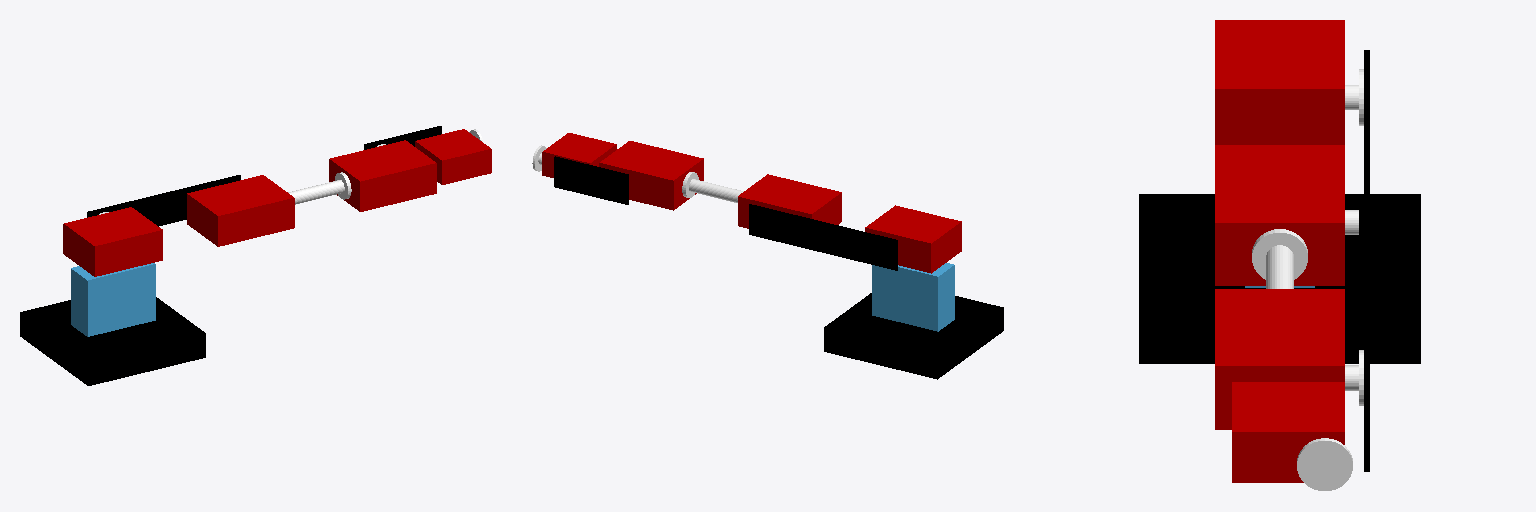
The robot description file, URDF, robot "robot":
<?xml version="1.0"?>
<robot name="robot">

	<material name="red">
		<color rgba="0.8 0 0 1"/>
	</material>

	<material name="blue">
		<color rgba="0 0 0.8 1"/>
	</material>
	
	<material name="white">
		<color rgba="1 1 1 1"/>
	</material>

	<material name="black">
		<color rgba="0 0 0 1"/>
	</material>


	<link name="base">
		<visual>
			<geometry>
				<box size="1 1 0.2"/>
			</geometry>
			<material name="black"/>
		</visual>
	</link>	

	<link name="base_link">
		<visual>
			<geometry>
				<box size="0.58 0.25 0.46"/>
			</geometry>
		</visual>
	</link>

	<joint name="base_base" type="fixed">
		<parent link="base"/>
		<child link="base_link"/>
		<origin rpy="0 0 0" xyz="0 0 0.33"/>
	</joint>

	<link name="base_link_rot1">
		<visual>
			<geometry>
				<cylinder radius="0.045" length="0.05"/>
			</geometry>
			<material name="white"/>
			<origin rpy="0 0 0" xyz="0 0 0.025"/>
		</visual>
	</link>
		
	<joint name="joint0" type="revolute">
		<parent link="base_link"/>
		<child link="base_link_rot1"/>
		<limit effort="1000.0" lower="-1.5707" upper="1.5707" velocity="0.5"/>
		<origin rpy="0 0 0" xyz="-0.12 0 0.23"/>
		<axis xyz="0 0 1"/>
	</joint>

	<link name="base_link_rot2">
		<visual>
			<geometry>
				<cylinder radius="0.1" length="0.02"/>
			</geometry>
			<material name="white"/>
			<origin rpy="0 0 0" xyz="0 0 0.01"/>
		</visual>
	</link>
		
	<joint name="base_link_rot2_rot1" type="fixed">
		<parent link="base_link_rot1"/>
		<child link="base_link_rot2"/>
		<origin rpy="0 0 0" xyz="0 0 0.05"/>
	</joint>



	<link name="link1">
		<visual>
			<geometry>
				<box size="0.58 0.46 0.25"/>
			</geometry>
			<origin rpy="0 0 0" xyz="0 0 0"/>
			<material name="red"/>
		</visual>
	</link>

	<joint name="base_link1" type="fixed">
		<parent link="base_link_rot2"/>
		<child link="link1"/>
		<origin rpy="0 0 0" xyz="0.12 0 0.145"/>
		<axis xyz="0 0 1"/>
	</joint>

	<link name="link1_rot1">
		<visual>
			<geometry>
				<cylinder radius="0.045" length="0.05"/>
			</geometry>
			<material name="white"/>
			<origin rpy="0 0 0" xyz="0 0 -0.025"/>
		</visual>
	</link>
		
	<joint name="joint1" type="revolute">
		<parent link="link1"/>
		<child link="link1_rot1"/>
		<limit effort="1000.0" lower="0" upper="3.1415" velocity="0.5"/>
		<origin rpy="1.5707 0 0" xyz="0.09 0.23 0"/>
		<axis xyz="0 0 1"/>
	</joint>

	<link name="link1_rot2">
		<visual>
			<geometry>
				<cylinder radius="0.1" length="0.02"/>
			</geometry>
			<material name="white"/>
			<origin rpy="0 0 0" xyz="0 0 -0.01"/>
		</visual>
	</link>
		
	<joint name="link1_rot2_rot1" type="fixed">
		<parent link="link1_rot1"/>
		<child link="link1_rot2"/>
		<origin rpy="0 0 0" xyz="0 0 -0.05"/>
	</joint>

	<link name="link1_frame1">
		<visual>
			<geometry>
				<box size="0.65 0.25 0.02"/>
			</geometry>
			<material name="black"/>
			<origin rpy="0 0 0" xyz="-0.325 0 0"/>
		</visual>
	</link>

	<joint name="link1_rot2_frame1" type="fixed">
		<parent link="link1_rot2"/>
		<child link="link1_frame1"/>
		<origin rpy="0 0 0" xyz="0.52 0 -0.03"/>
	</joint>
	
<!--
	<link name="link1_frame2">
		<visual>
			<geometry>
				<box size="0.04 0.25 0.56"/>
			</geometry>
			<material name="black"/>
			<origin rpy="0 0 0" xyz="0 0 -0.28"/>
		</visual>
	</link>

	<joint name="link1_frame1_frame2" type="fixed">
		<parent link="link1_frame1"/>
		<child link="link1_frame2"/>
		<origin rpy="0 0 0" xyz="0 0 0.56"/>
	</joint>
-->

	<link name="link1_frame3">
		<visual>
			<geometry>
				<box size="0.65 0.25 0.02"/>
			</geometry>
			<material name="black"/>
			<origin rpy="0 0 0" xyz="-0.325 0 0"/>
		</visual>
	</link>

	<joint name="link1_frame1_frame3" type="fixed">
		<parent link="link1_frame1"/>
		<child link="link1_frame3"/>
		<origin rpy="0 0 0" xyz="0.65 0 0"/>
	</joint>

<!--
	<link name="link1_frame4">
		<visual>
			<geometry>
				<box size="0.65 0.25 0.02"/>
			</geometry>
			<material name="black"/>
			<origin rpy="0 0 0" xyz="-0.325 0 0"/>
		</visual>
	</link>

	<joint name="link1_frame2_frame4" type="fixed">
		<parent link="link1_frame2"/>
		<child link="link1_frame4"/>
		<origin rpy="0 0 0" xyz="0 0 0"/>
	</joint>


	<link name="link1_frame5">
		<visual>
			<geometry>
				<box size="0.65 0.25 0.02"/>
			</geometry>
			<material name="black"/>
			<origin rpy="0 0 0" xyz="-0.325 0 0"/>
		</visual>
	</link>

	<joint name="link1_frame4_frame5" type="fixed">
		<parent link="link1_frame4"/>
		<child link="link1_frame5"/>
		<origin rpy="0 0 0" xyz="0.65 0 0"/>
	</joint>

-->
	<link name="link2">
		<visual>
			<geometry>
				<box size="0.65 0.25 0.46"/>
			</geometry>	
			<material name="red"/>
			<origin rpy="0 0 0" xyz="-0.325 0 0"/>
		</visual>
	</link>

	<link name="link2_rot1">
		<visual>
			<geometry>
				<cylinder radius="0.045" length="0.05"/>
			</geometry>	
			<material name="white"/>
			<origin rpy="0 0 0" xyz="0 0 -0.025"/>
		</visual>
	</link>

	<!--
	<link name="link2_rot2">
		<visual>
			<geometry>
				<cylinder radius="0.1" length="0.02"/>
			</geometry>	
			<material name="white"/>
			<origin rpy="0 0 0" xyz="0 0 -0.01"/>
		</visual>
	</link>
-->

	<joint name="joint2" type="revolute">
		<parent link="link1_frame3"/>
		<child link="link2_rot1"/>
		<limit effort="1000.0" lower="-1.5707" upper="1.5707" velocity="0.5"/>
		<origin rpy="0 0 0" xyz="-0.12 0 0.08"/>
		<axis xyz="0 0 1"/>
	</joint>

<!--
	<joint name="link2_rot2_rot1" type="fixed">
		<parent link="link2_rot1"/>
		<child link="link2_rot2"/>
		<origin rpy="0 0 0" xyz="0 0 -0.05"/>
	</joint>
-->

	<joint name="link2_rot1" type="fixed">
		<parent link="link2_rot1"/>
		<child link="link2"/>
		<origin rpy="0 0 0" xyz="0.27 0 0.23"/>
	</joint>

	<link name="link2_bar1">
		<visual>
			<geometry>
				<cylinder radius="0.1" length="0.03"/>
			</geometry>	
			<material name="white"/>
			<origin rpy="0 1.57 0" xyz="-0.015 0 0"/>
		</visual>
	</link>

	<joint name="link2_bar1" type="fixed">
		<parent link="link2"/>
		<child link="link2_bar1"/>
		<origin rpy="0 0 0" xyz="0.03 0 0"/>
	</joint>

	<link name="link2_bar2">
		<visual>
			<geometry>
				<cylinder radius="0.05" length="0.5"/>
			</geometry>	
			<material name="white"/>
			<origin rpy="0 1.57 0" xyz="-0.25 0 0"/>
		</visual>
	</link>

	<joint name="link2_bar1_bar2" type="fixed">
		<parent link="link2_bar1"/>
		<child link="link2_bar2"/>
		<origin rpy="0 0 0" xyz="0.5 0 0"/>
	</joint>

	<link name="link2_bar3">
		<visual>
			<geometry>
				<cylinder radius="0.1" length="0.03"/>
			</geometry>	
			<material name="white"/>
			<origin rpy="0 1.57 0" xyz="-0.015 0 0"/>
		</visual>
	</link>

	<joint name="link2_bar2_bar3" type="fixed">
		<parent link="link2_bar2"/>
		<child link="link2_bar3"/>
		<origin rpy="0 0 0" xyz="0.03 0 0"/>
	</joint>

	<link name="link3">
		<visual>
			<geometry>
				<box size="0.65 0.25 0.46"/>
			</geometry>	
			<material name="red"/>
			<origin rpy="0 0 0" xyz="0 0 0"/>
		</visual>
	</link>

	<joint name="link2_bar3_link3" type="fixed">
		<parent link="link2_bar3"/>
		<child link="link3"/>
		<origin rpy="0 0 0" xyz="0.325 0 0"/>
	</joint>

	<link name="link3_rot1">
		<visual>
			<geometry>
				<cylinder radius="0.045" length="0.05"/>
			</geometry>	
			<material name="white"/>
			<origin rpy="0 0 0" xyz="0 0 -0.025"/>
		</visual>
	</link>

	<joint name="joint3" type="revolute">
		<parent link="link3"/>
		<child link="link3_rot1"/>
		<limit effort="1000.0" lower="-1.5707" upper="1.5707" velocity="0.5"/>
		<origin rpy="0 0 0" xyz="0.155 0 -0.23"/>
		<axis xyz="0 0 1"/>
	</joint>
	
	<link name="link3_rot2">
		<visual>
			<geometry>
				<cylinder radius="0.1" length="0.02"/>
			</geometry>	
			<material name="white"/>
			<origin rpy="0 0 0" xyz="0 0 -0.01"/>
		</visual>
	</link>

	<joint name="link3_rot2_rot1" type="fixed">
		<parent link="link3_rot1"/>
		<child link="link3_rot2"/>
		<origin rpy="0 0 0" xyz="0 0 -0.05"/>
	</joint>

	<link name="link3_frame1">
		<visual>
			<geometry>
				<box size="0.65 0.25 0.02"/>
			</geometry>
			<material name="black"/>
			<origin rpy="0 0 0" xyz="-0.325 0 0"/>
		</visual>
	</link>

	<joint name="link3_rot2_frame1" type="fixed">
		<parent link="link3_rot2"/>
		<child link="link3_frame1"/>
		<origin rpy="0 0 0" xyz="0.52 0 -0.03"/>
	</joint>

<!--	
	<link name="link3_frame2">
		<visual>
			<geometry>
				<box size="0.02 0.25 0.56"/>
			</geometry>
			<material name="black"/>
			<origin rpy="0 0 0" xyz="0 0 -0.28"/>
		</visual>
	</link>

	<joint name="link3_frame1_frame2" type="fixed">
		<parent link="link3_frame1"/>
		<child link="link3_frame2"/>
		<origin rpy="0 0 0" xyz="0 0 0.56"/>
	</joint>

	<link name="link3_frame3">
		<visual>
			<geometry>
				<box size="0.65 0.25 0.02"/>
			</geometry>
			<material name="black"/>
			<origin rpy="0 0 0" xyz="-0.325 0 0"/>
		</visual>
	</link>

	<joint name="link3_frame2_frame3" type="fixed">
		<parent link="link3_frame2"/>
		<child link="link3_frame3"/>
		<origin rpy="0 0 0" xyz="0 0 0"/>
	</joint>
-->

	<link name="link4">
		<visual>
			<geometry>
				<box size="0.42 0.20 0.40"/>
			</geometry>	
			<material name="red"/>
			<origin rpy="0 0 0" xyz="0 0 0"/>
		</visual>
	</link>

	<joint name="link3_frame1_link4" type="fixed">
		<parent link="link3_frame1"/>
		<child link="link4"/>
		<origin rpy="0 0 0" xyz="-0.06 0 0.28"/>
	</joint>

	<link name="link4_rot1">
		<visual>
			<geometry>
				<cylinder radius="0.045" length="0.05"/>
			</geometry>	
			<material name="white"/>
			<origin rpy="0 0 0" xyz="0 0 0.025"/>
		</visual>
	</link>

	<joint name="joint4" type="revolute">
		<parent link="link4"/>
		<child link="link4_rot1"/>
		<limit effort="1000.0" lower="-1.5707" upper="1.5707" velocity="0.5"/>
		<origin rpy="0 1.5707 0" xyz="0.21 0 -0.13"/>
		<axis xyz="0 0 1"/>
	</joint>
	
	<link name="link4_rot2">
		<visual>
			<geometry>
				<cylinder radius="0.1" length="0.02"/>
			</geometry>	
			<material name="white"/>
			<origin rpy="0 0 0" xyz="0 0 -0.01"/>
		</visual>
	</link>

	<joint name="link4_rot2_rot1" type="fixed">
		<parent link="link4_rot1"/>
		<child link="link4_rot2"/>
		<origin rpy="0 0 0" xyz="0 0 0.07"/>
	</joint>

	<!-- Gripper -->


</robot>			

--- Render facts (derived) ---
Views: 3 orthographic renders of the robot side by side, from view 1: azimuth 30°, elevation 25°; view 2: azimuth 150°, elevation 25°; view 3: azimuth 270°, elevation 25°.
Model robot with 21 links and 20 joints (5 revolute, 15 fixed), rooted at base, posed all joints at 0.
Links seen in each view (by area): view 1: base, link2, link3, link1, base_link, link4, link1_frame3, link1_frame1, link2_bar2, link3_frame1; view 2: base, base_link, link3, link1, link2, link1_frame1, link3_frame1, link1_frame3, link4, link2_bar2; view 3: base, link1, link2, link3, link4, link4_rot2, link2_bar1, link2_bar2, link1_frame3, link3_frame1.
Link boxes in pixels (x1,y1,x2,y2): base: (20,297,205,385); link2: (187,175,294,246); link3: (329,140,436,211); link1: (63,207,162,276); base_link: (71,263,155,336); link4: (415,129,491,184); link1_frame3: (163,175,240,224); link1_frame1: (87,193,164,226); link2_bar2: (288,180,344,204); link3_frame1: (364,126,441,149); base: (824,293,1003,379); base_link: (872,263,954,331); link3: (599,141,703,210); link1: (865,205,961,273); link2: (738,174,841,228); link1_frame1: (823,222,897,270); link3_frame1: (554,156,628,204); link1_frame3: (749,204,823,252); link4: (542,133,616,177); link2_bar2: (689,179,743,202); base: (1139,194,1420,363); link1: (1215,20,1344,144); link2: (1215,145,1344,285); link3: (1215,289,1344,429); link4: (1232,382,1344,482); link4_rot2: (1297,438,1352,490); link2_bar1: (1252,229,1307,279); link2_bar2: (1266,245,1293,288); link1_frame3: (1364,127,1369,267); link3_frame1: (1364,331,1369,471).
Size in the robot's own frame: 3.69 by 1 by 0.98 metres.
Geometry: primitives only (box / cylinder / sphere), no mesh files.